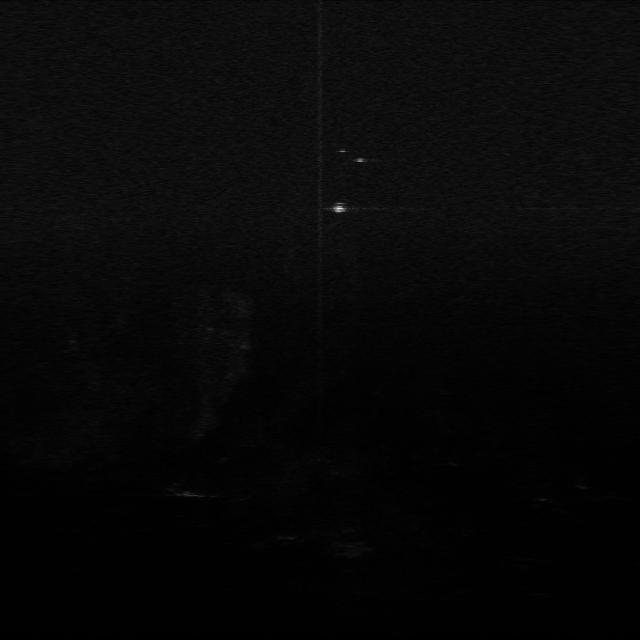rov: (328, 199, 348, 215)
